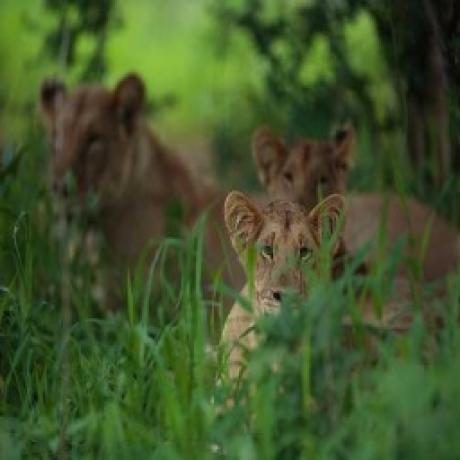Lion: (32, 66, 219, 287), (251, 114, 460, 268), (226, 184, 348, 354)
